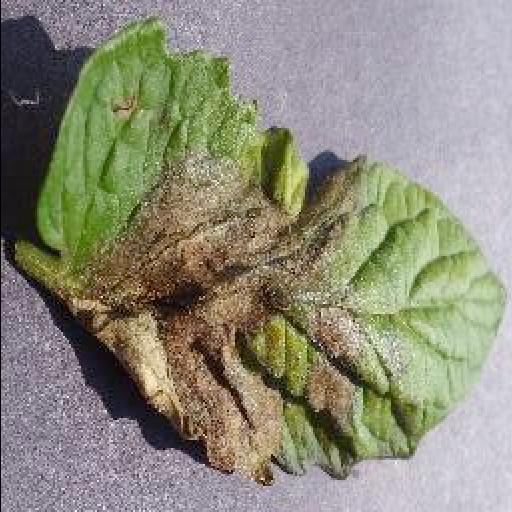disease_tomato: (40, 20, 512, 488)
